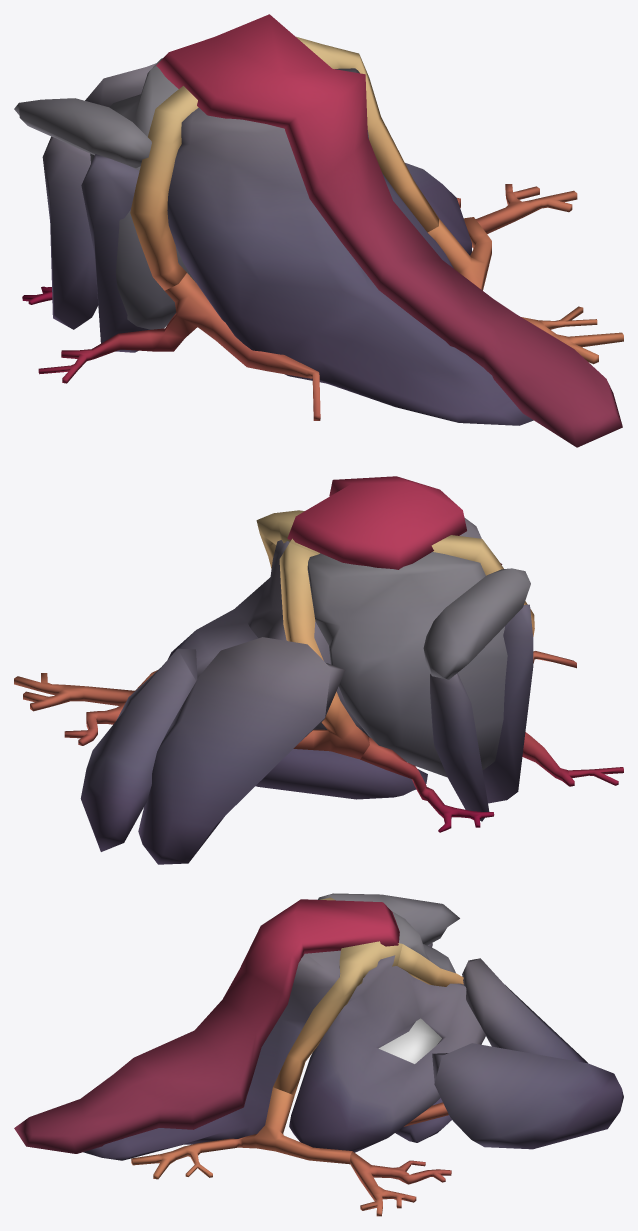
The model's file is House.fbx.
3 renders of one model, top to bottom at view 1: azimuth 30°, elevation 25°; view 2: azimuth 150°, elevation 25°; view 3: azimuth 270°, elevation 25°, orthographic. The views are drawn at different scales.
Visible parts, largest first — view 1: house; view 2: house; view 3: house.
Boxes of the visible parts, x1=… form: house: x1=14, y1=14, x2=623, y2=447; house: x1=14, y1=476, x2=623, y2=864; house: x1=14, y1=893, x2=623, y2=1216.
Bounding box in the file's own units: 485 × 220 × 615.
